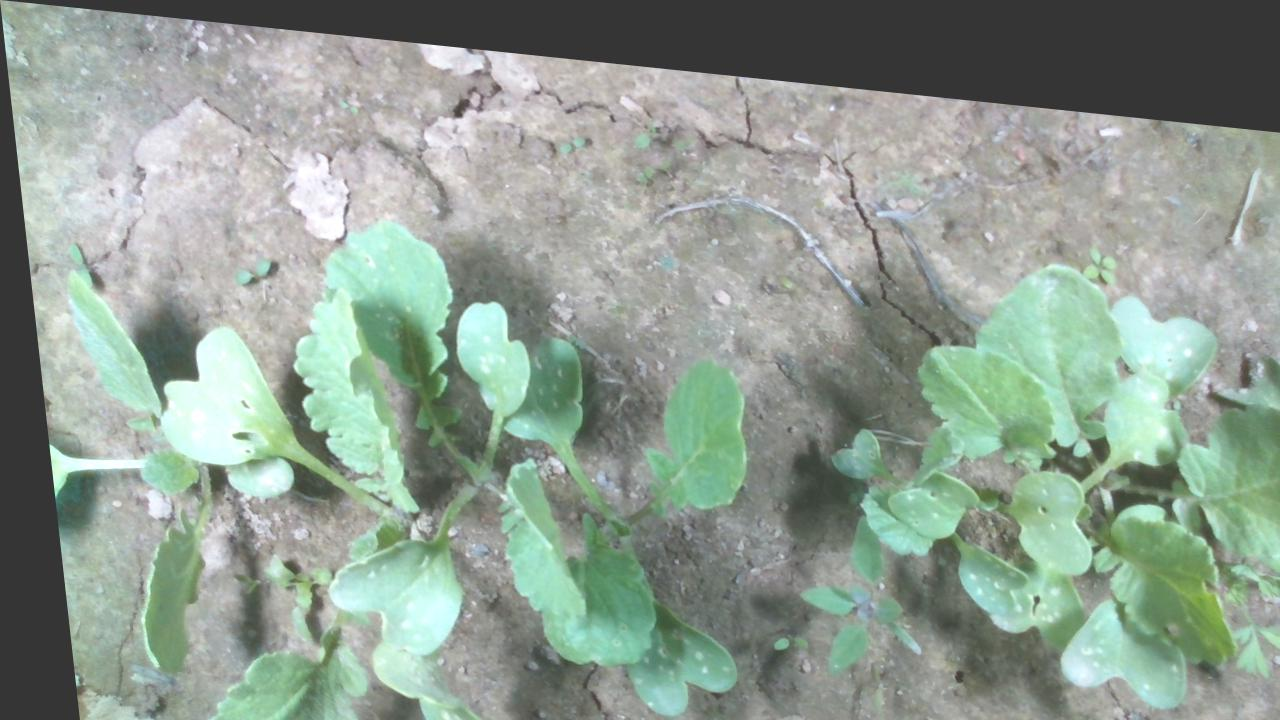weed: (223, 249, 267, 284), (757, 615, 796, 637), (553, 120, 584, 145)
